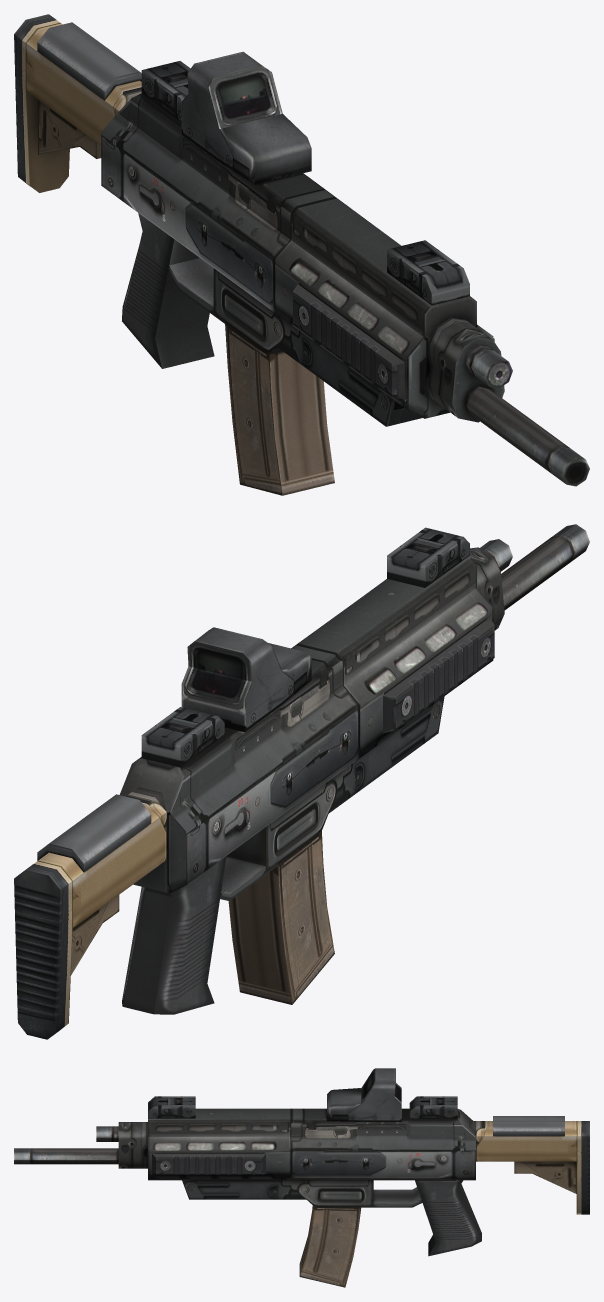
Rendered from w_rifle01.FBX.
3 views of the same model, one above another, from view 1: azimuth 30°, elevation 25°; view 2: azimuth 150°, elevation 25°; view 3: azimuth 270°, elevation 25° (orthographic). The views are drawn at different scales.
Visible parts, largest first — view 1: w_rifle01mesh; view 2: w_rifle01mesh; view 3: w_rifle01mesh.
Boxes of the visible parts, bbox=[...] form: w_rifle01mesh: bbox=[14, 14, 589, 495]; w_rifle01mesh: bbox=[14, 524, 589, 1039]; w_rifle01mesh: bbox=[14, 1068, 589, 1287].
Size of the model in its own units: 11.9 by 42.7 by 108.
1 material, 1 textured.
